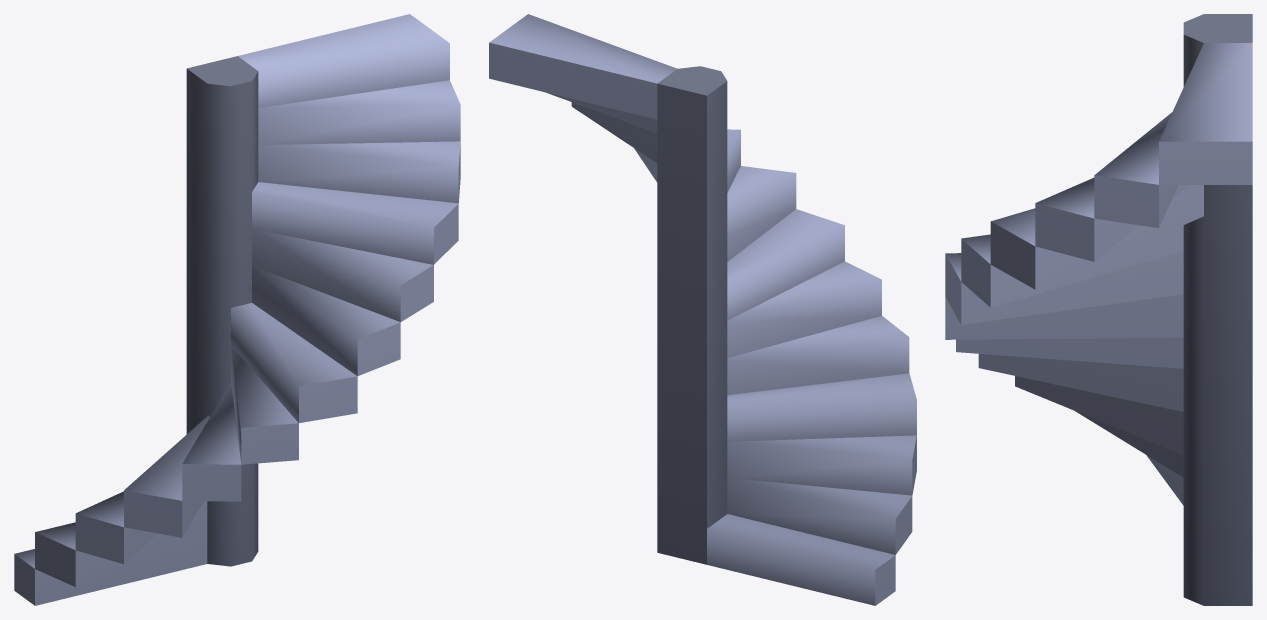
Rendered from stairs-stone-round.glb.
3 renders of one model, left to right at view 1: azimuth 30°, elevation 25°; view 2: azimuth 150°, elevation 25°; view 3: azimuth 270°, elevation 25°, orthographic. The views are drawn at different scales.
Parts seen in each view (by area): view 1: stairs-stone-round; view 2: stairs-stone-round; view 3: stairs-stone-round.
Part boxes in pixels (x1=…): stairs-stone-round: x1=14, y1=14, x2=460, y2=605; stairs-stone-round: x1=489, y1=14, x2=916, y2=605; stairs-stone-round: x1=945, y1=14, x2=1252, y2=605.
Size of the model in its own units: 0.8618 by 1 by 0.4948.
1 material, 1 textured.
